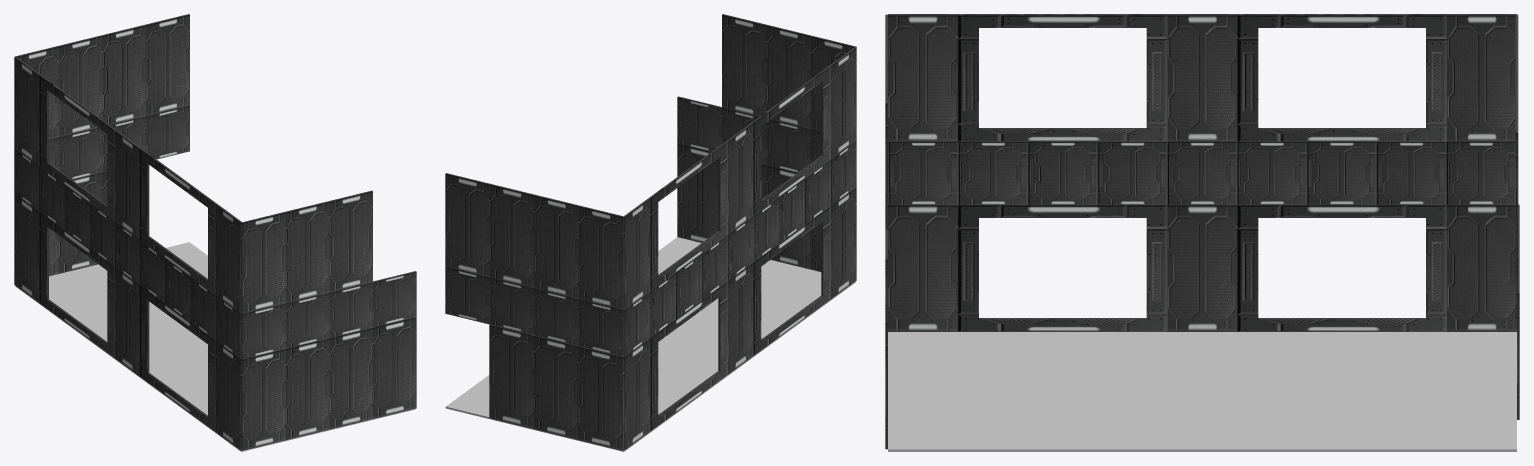
File: CouloirLabo2 1.fbx
3 views of the same model, side by side, from view 1: azimuth 30°, elevation 25°; view 2: azimuth 150°, elevation 25°; view 3: azimuth 270°, elevation 25° (orthographic). The views are drawn at different scales.
Parts seen in each view (by area): view 1: Cube.008, Cube.009, Cube.018, Cube.006, Cube.003, Cube.020, Cube.030, Cube.033, Cube.021, Cube.031, Cube.007, Cube.028 (+20 smaller); view 2: Cube.008, Cube.009, Cube.012, Cube.030, Cube.029, Cube.028, Cube.033, Cube.011, Cube.010, Cube.003, Cube.020, Cube.031 (+20 smaller); view 3: Cube.009, Cube.008, Cube.017, Cube.015, Cube, Cube.002, Cube.014, Cube.004, Cube.016, Cube.001, Cube.013, Cube.005 (+1 smaller).
Boxes of the visible parts, x1,y1,x2,y2 form: Cube.008: (14,148,241,358); Cube.009: (15,242,415,451); Cube.018: (241,212,285,314); Cube.006: (241,349,285,450); Cube.003: (329,190,372,292); Cube.020: (285,201,329,303); Cube.030: (146,14,189,116); Cube.033: (102,24,146,125); Cube.021: (329,328,372,429); Cube.031: (373,317,416,418); Cube.007: (286,338,329,440); Cube.028: (58,35,102,137); Cube.008: (624,141,856,356); Cube.009: (445,237,855,451); Cube.012: (578,346,623,450); Cube.030: (445,173,490,277); Cube.029: (579,205,623,310); Cube.028: (534,195,579,299); Cube.033: (490,184,534,288); Cube.011: (534,335,578,439); Cube.010: (489,324,533,428); Cube.003: (722,14,766,116); Cube.020: (766,25,811,129); Cube.031: (677,144,718,242); Cube.009: (888,332,1516,451); Cube.008: (888,142,1515,205); Cube.017: (1237,14,1446,141); Cube.015: (958,14,1167,141); Cube: (1237,205,1446,331); Cube.002: (958,205,1167,331); Cube.014: (1167,14,1237,141); Cube.004: (1167,205,1237,331); Cube.016: (888,14,957,141); Cube.001: (888,205,957,331); Cube.013: (1447,14,1516,141); Cube.005: (1447,205,1516,331).
Bounding box in the file's own units: 2010 × 2520 × 4540.
